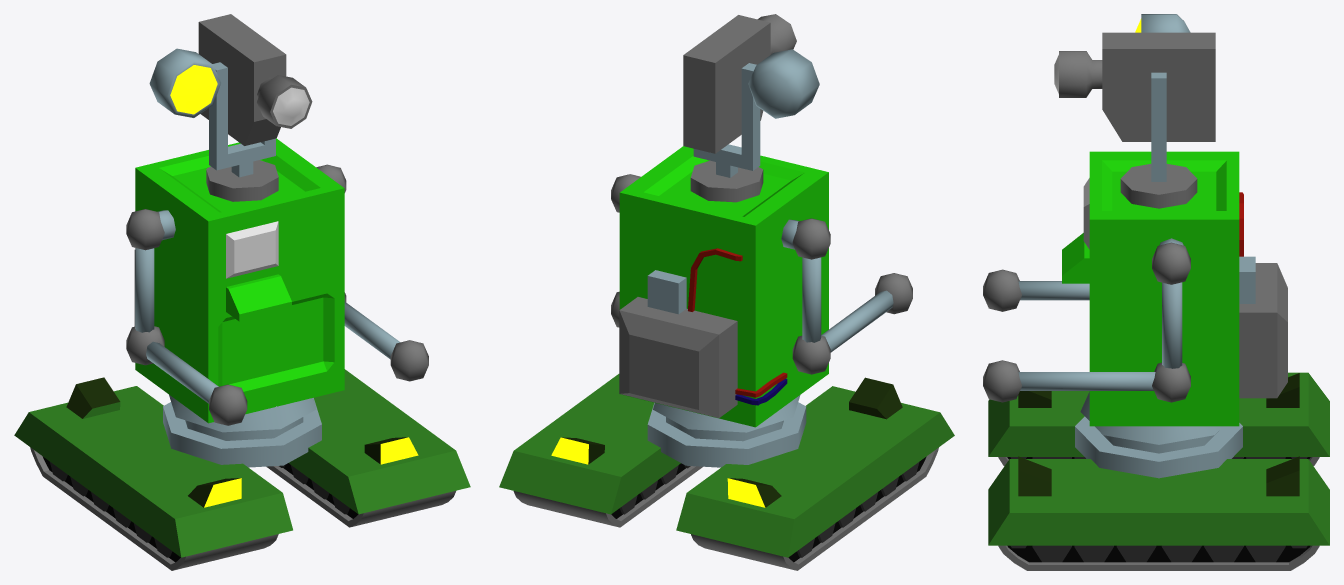
Rendered from player_robot.fbx.
The picture shows the model from 3 angles, left to right: view 1: azimuth 30°, elevation 25°; view 2: azimuth 150°, elevation 25°; view 3: azimuth 270°, elevation 25°; orthographic projection. The views are drawn at different scales.
Parts seen in each view (by area): view 1: Torso, Track Cover, Turret, Tracks, Camera_Body, Lamp, Neck, Camera_Lens, Horizontal_Rotator, R_Upper_Arm, R_Lower_Arm, L_Joint_Wrist (+4 smaller); view 2: Track Cover, Torso, Bomb, Camera_Body, Turret, Tracks, Lamp, Neck, Horizontal_Rotator, R_Upper_Arm, R_Lower_Arm, R_Joint_Shoulder (+4 smaller); view 3: Track Cover, Torso, Camera_Body, Tracks, Turret, Bomb, Horizontal_Rotator, L_Lower_Arm, Camera_Lens, L_Upper_Arm, Neck, L_Joint_Shoulder (+5 smaller).
Boxes of the visible parts, left/top/right/bottom form: Torso: left=135, top=138, right=344, bottom=423; Track Cover: left=14, top=369, right=470, bottom=557; Turret: left=163, top=395, right=321, bottom=467; Tracks: left=30, top=447, right=455, bottom=570; Camera_Body: left=198, top=14, right=286, bottom=145; Lamp: left=149, top=48, right=220, bottom=117; Neck: left=209, top=62, right=275, bottom=177; Camera_Lens: left=257, top=75, right=312, bottom=128; Horizontal_Rotator: left=206, top=160, right=278, bottom=201; R_Upper_Arm: left=135, top=248, right=154, bottom=332; R_Lower_Arm: left=146, top=341, right=218, bottom=403; L_Joint_Wrist: left=390, top=340, right=428, bottom=381; Track Cover: left=499, top=374, right=954, bottom=557; Torso: left=619, top=146, right=828, bottom=427; Bomb: left=619, top=270, right=737, bottom=417; Camera_Body: left=683, top=15, right=770, bottom=153; Turret: left=647, top=395, right=806, bottom=467; Tracks: left=513, top=447, right=938, bottom=570; Lamp: left=748, top=49, right=819, bottom=118; Neck: left=693, top=63, right=760, bottom=177; Horizontal_Rotator: left=690, top=160, right=763, bottom=202; R_Upper_Arm: left=802, top=257, right=821, bottom=342; R_Lower_Arm: left=821, top=290, right=893, bottom=352; R_Joint_Shoulder: left=792, top=218, right=830, bottom=259; Track Cover: left=988, top=372, right=1329, bottom=545; Torso: left=1062, top=151, right=1239, bottom=426; Camera_Body: left=1102, top=32, right=1215, bottom=141; Tracks: left=998, top=457, right=1319, bottom=570; Turret: left=1075, top=391, right=1242, bottom=478; Bomb: left=1239, top=256, right=1287, bottom=398; Horizontal_Rotator: left=1120, top=164, right=1197, bottom=208; L_Lower_Arm: left=1018, top=372, right=1155, bottom=390; Camera_Lens: left=1054, top=51, right=1102, bottom=97; L_Upper_Arm: left=1162, top=282, right=1182, bottom=368; Neck: left=1151, top=72, right=1166, bottom=181; L_Joint_Shoulder: left=1152, top=242, right=1190, bottom=284.
Bounding box in the file's own units: 213 × 318 × 216.
